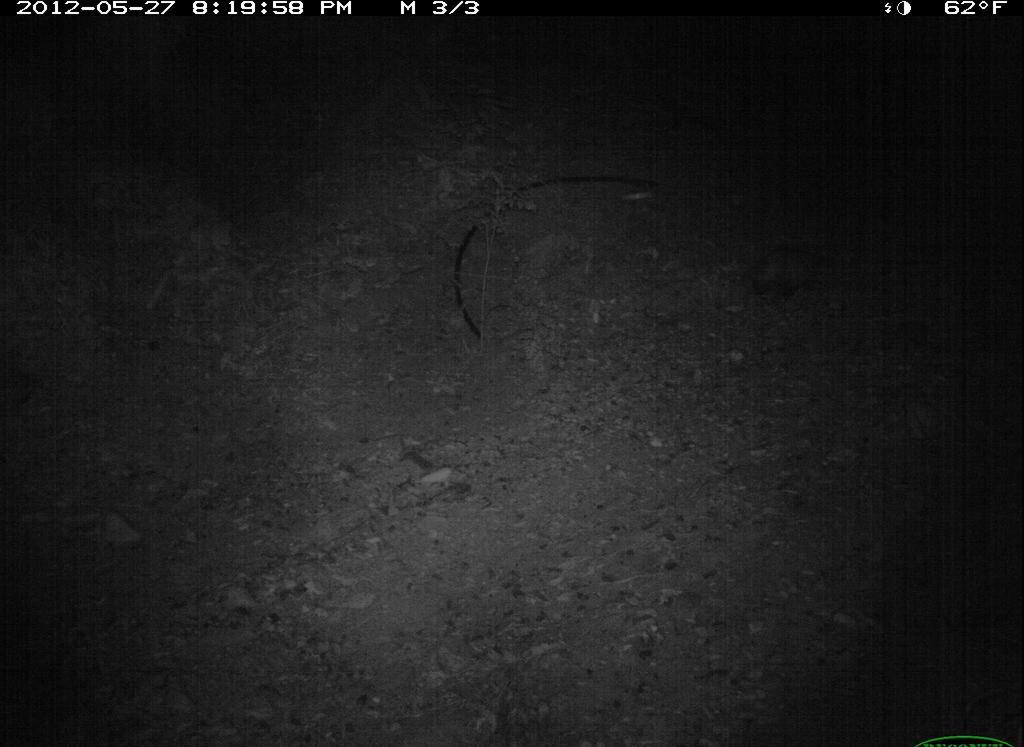opossum: (738, 235, 834, 300)
